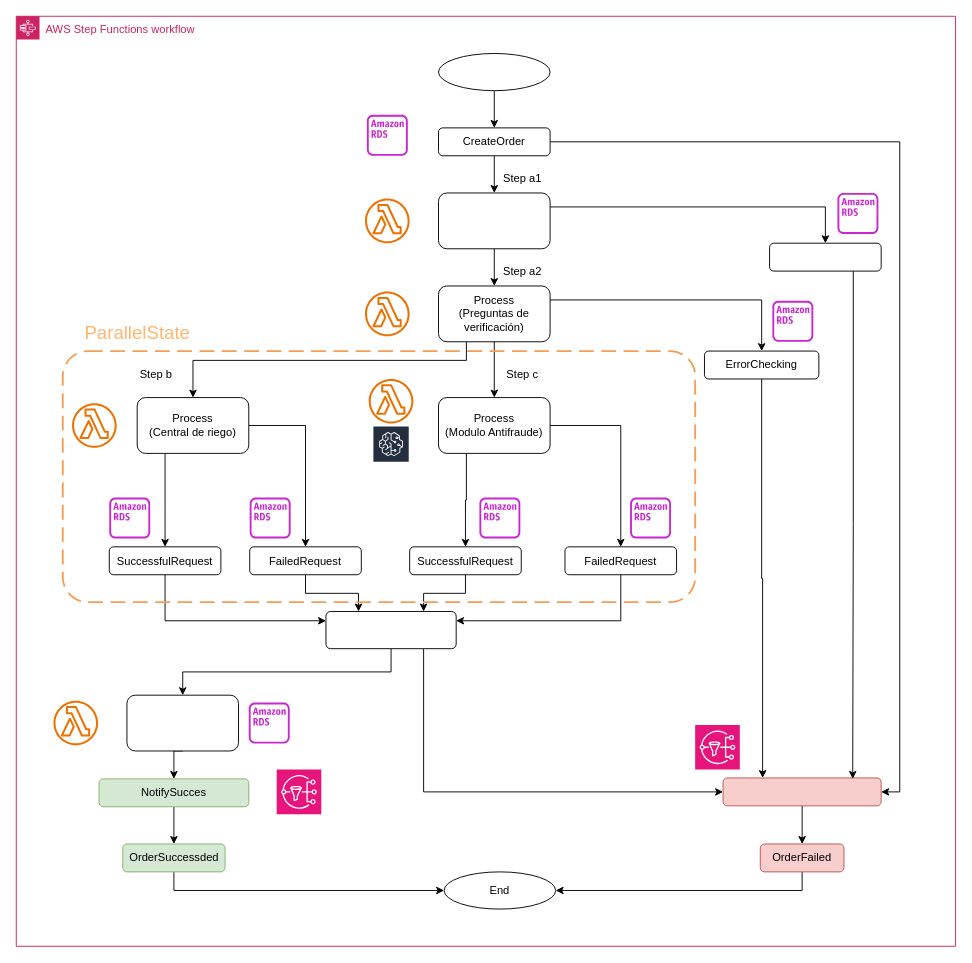
The diagram is 972 pixels wide and 963 high, and some of its shapes have lost their labels. The shapes that lost their labels are listed below. From the top down, each one's box as (x1, y1, x2, y2) in pixels, then its label:
(438, 53, 550, 91): Start
(438, 192, 550, 249): Process (Registraduría Naciona)
(769, 242, 881, 271): CanNotFindUser
(372, 425, 410, 491): Amazon SageMaker
(325, 611, 456, 649): ChoiceState
(126, 694, 239, 751): Process (Opciones de credito)
(722, 777, 881, 806): NotifyFailure
